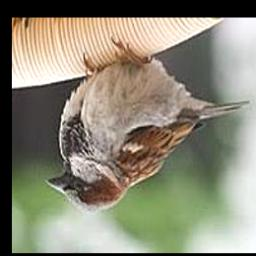Sparrow: (45, 39, 249, 214)
